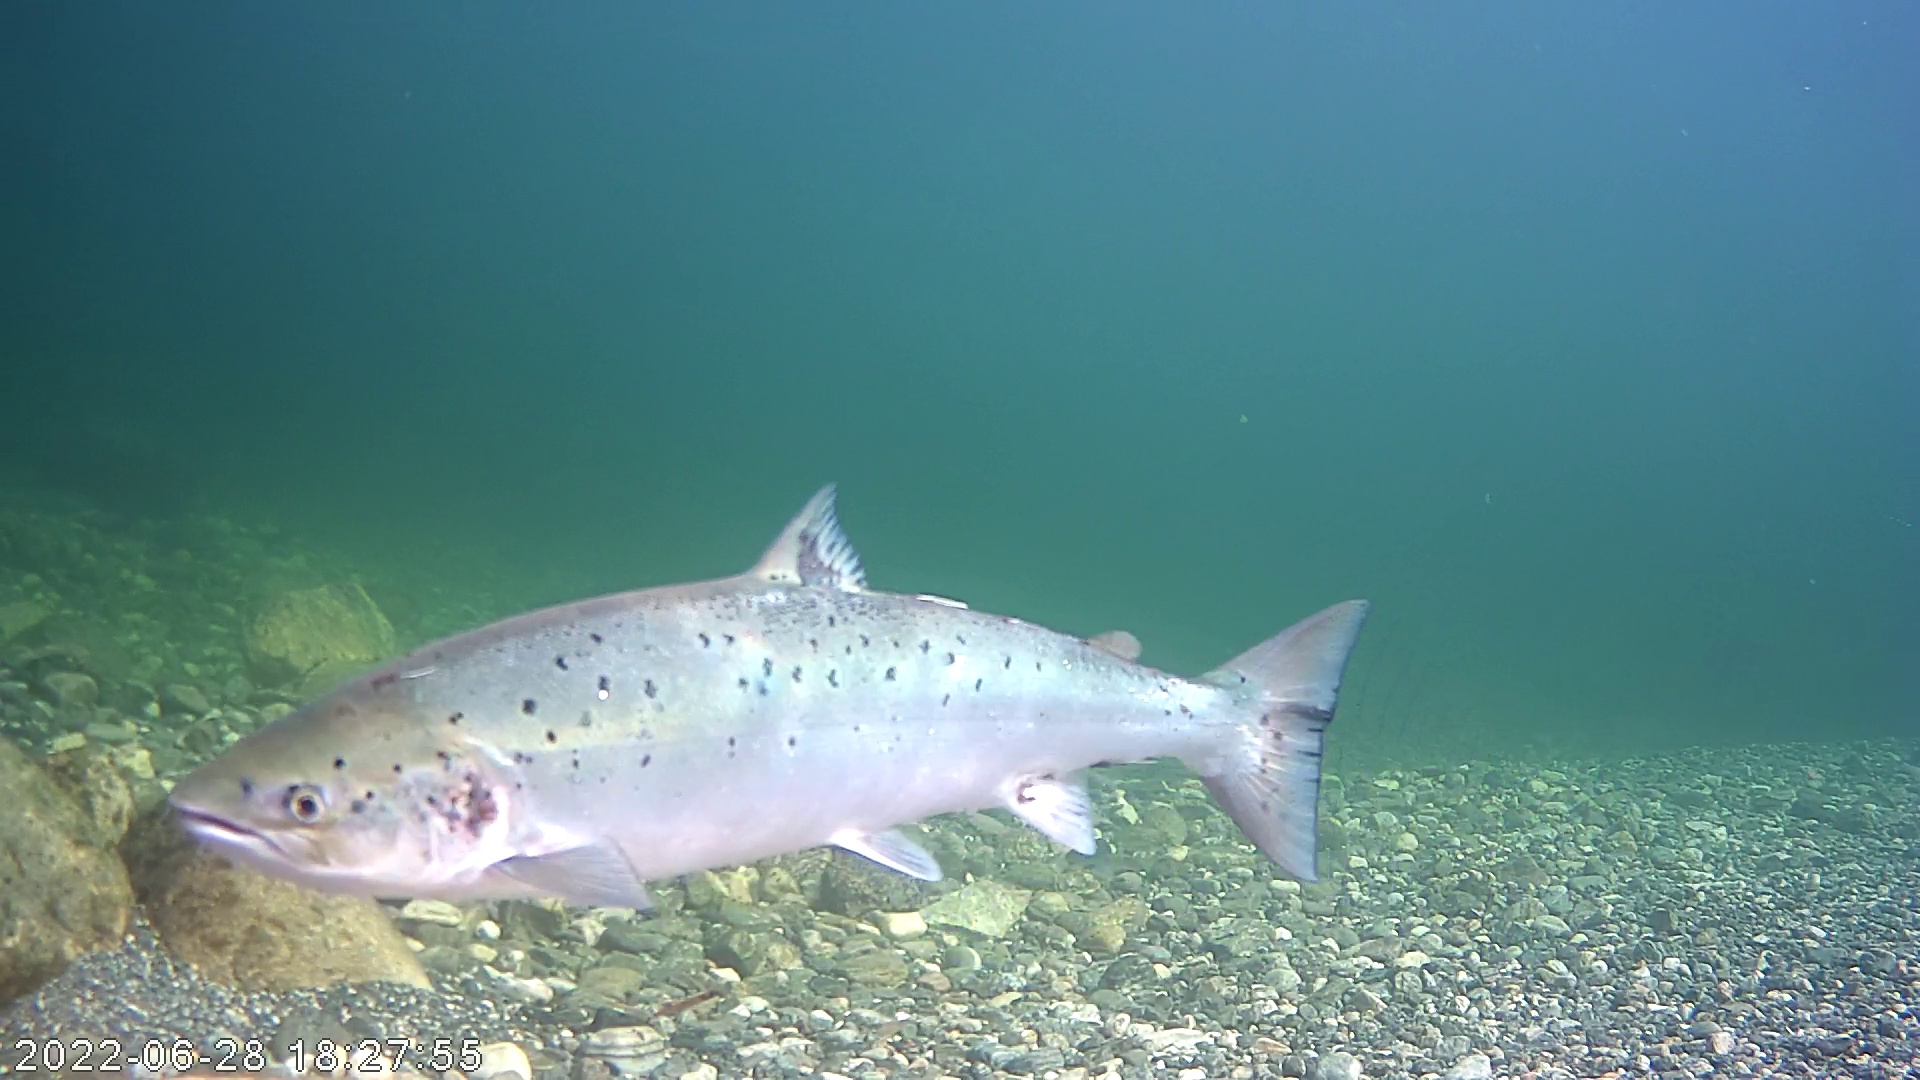salmon: (253, 462, 1393, 930)
